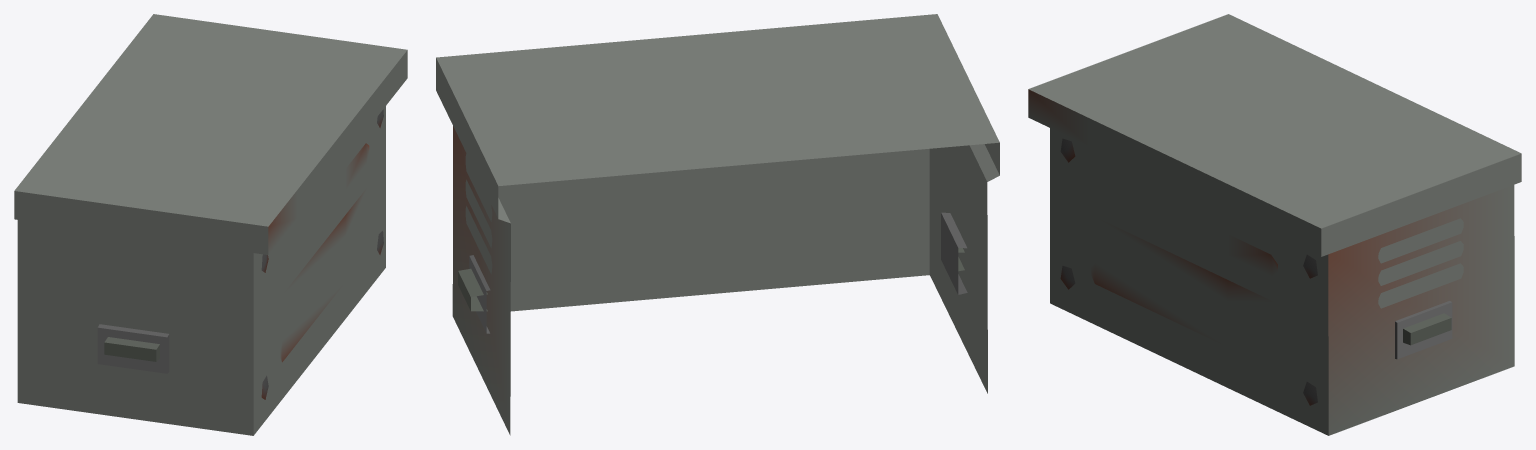
File: MSH_QuestObject_container_02.fbx
3 views of the same model, side by side, from view 1: azimuth 30°, elevation 25°; view 2: azimuth 150°, elevation 25°; view 3: azimuth 270°, elevation 25° (orthographic). The views are drawn at different scales.
Parts seen in each view (by area): view 1: MSH_QuestObject_container_02; view 2: MSH_QuestObject_container_02; view 3: MSH_QuestObject_container_02.
Part boxes in pixels (x1,y1,x2,y2): MSH_QuestObject_container_02: [14, 14, 407, 435]; MSH_QuestObject_container_02: [436, 14, 999, 435]; MSH_QuestObject_container_02: [1028, 14, 1521, 435].
Bounding box in the file's own units: 1.94 × 0.9101 × 1.88.
